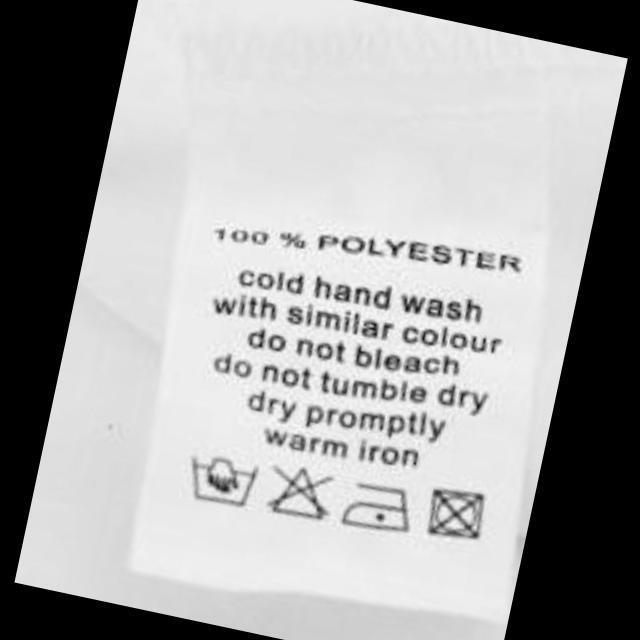DN_bleach: (258, 456, 342, 529)
DN_tumble_dry: (418, 479, 492, 546)
hand_wash: (177, 448, 266, 516)
iron_low: (337, 474, 422, 539)
